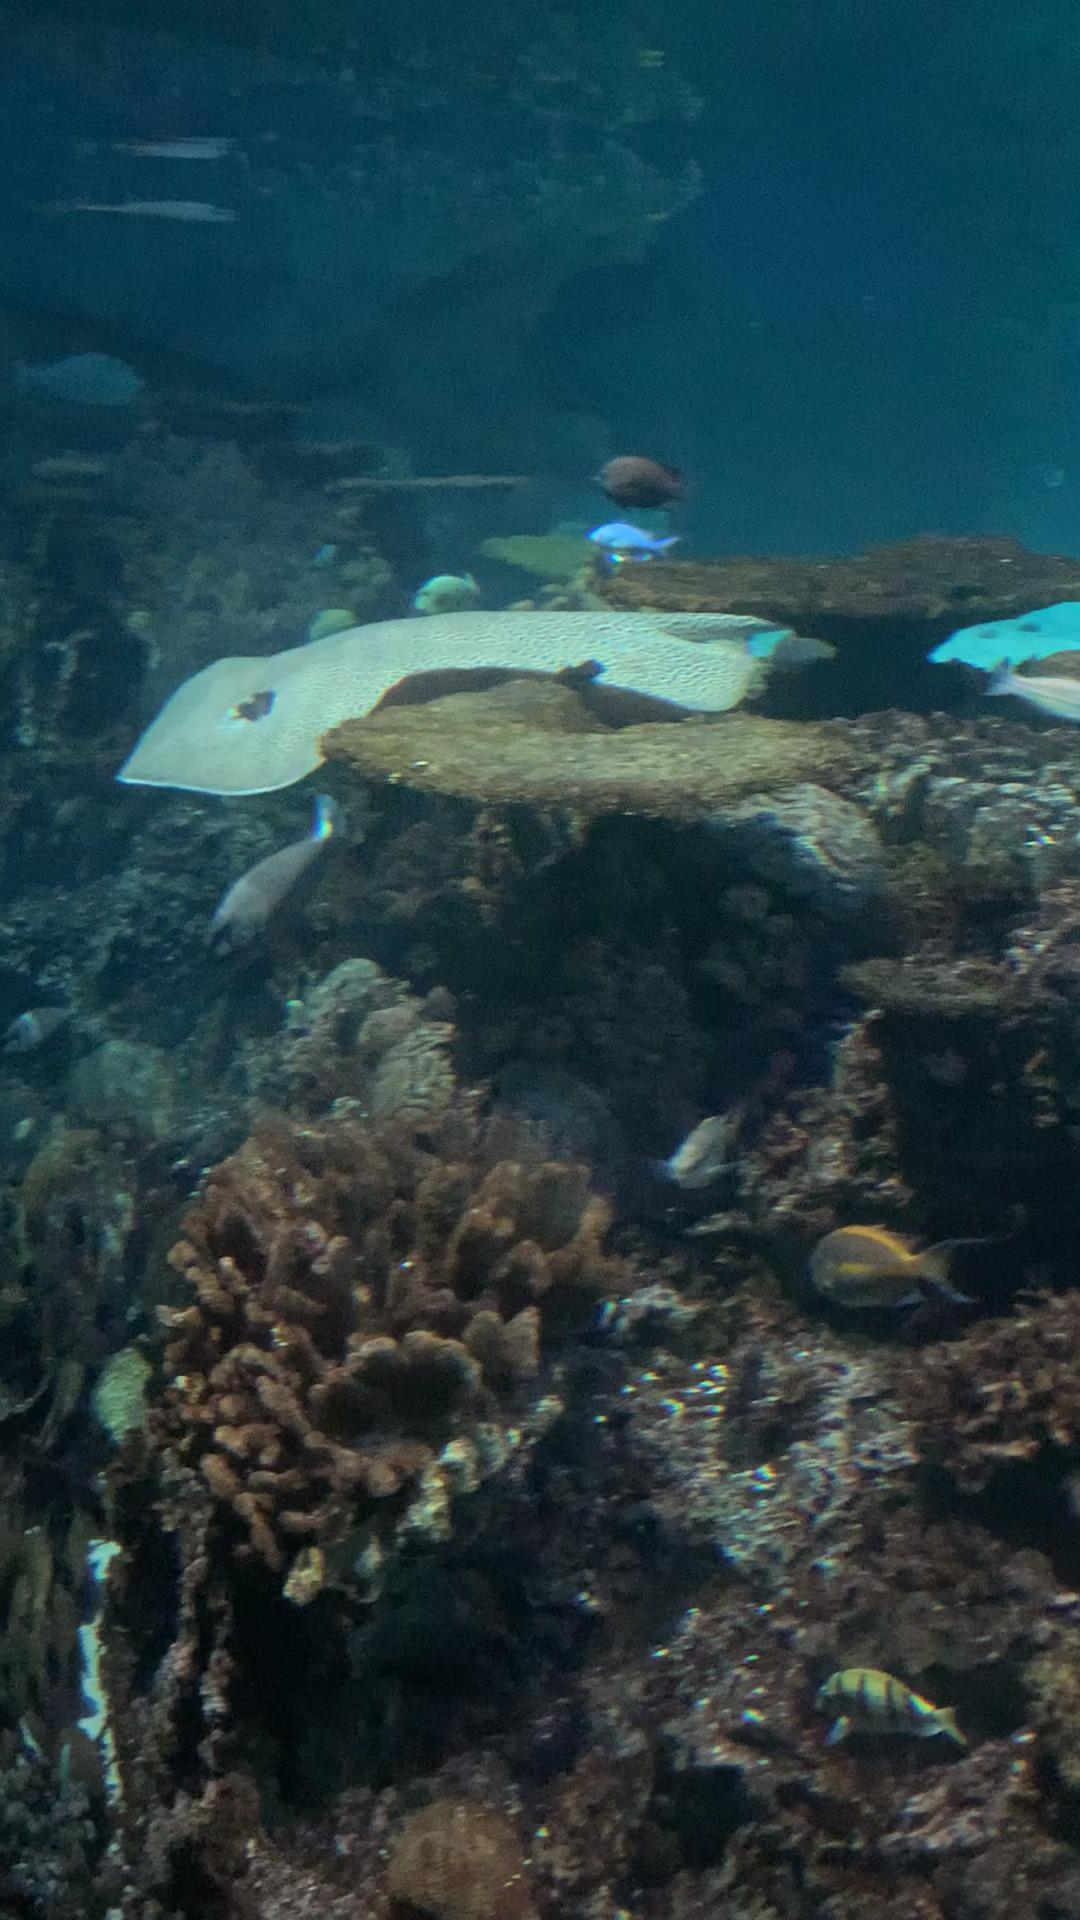fish: (185, 783, 367, 967), (800, 1209, 1000, 1337), (803, 1648, 988, 1764), (659, 1100, 752, 1201), (588, 438, 682, 520), (0, 1000, 78, 1058), (588, 518, 684, 564)
stingray: (117, 603, 762, 793)
